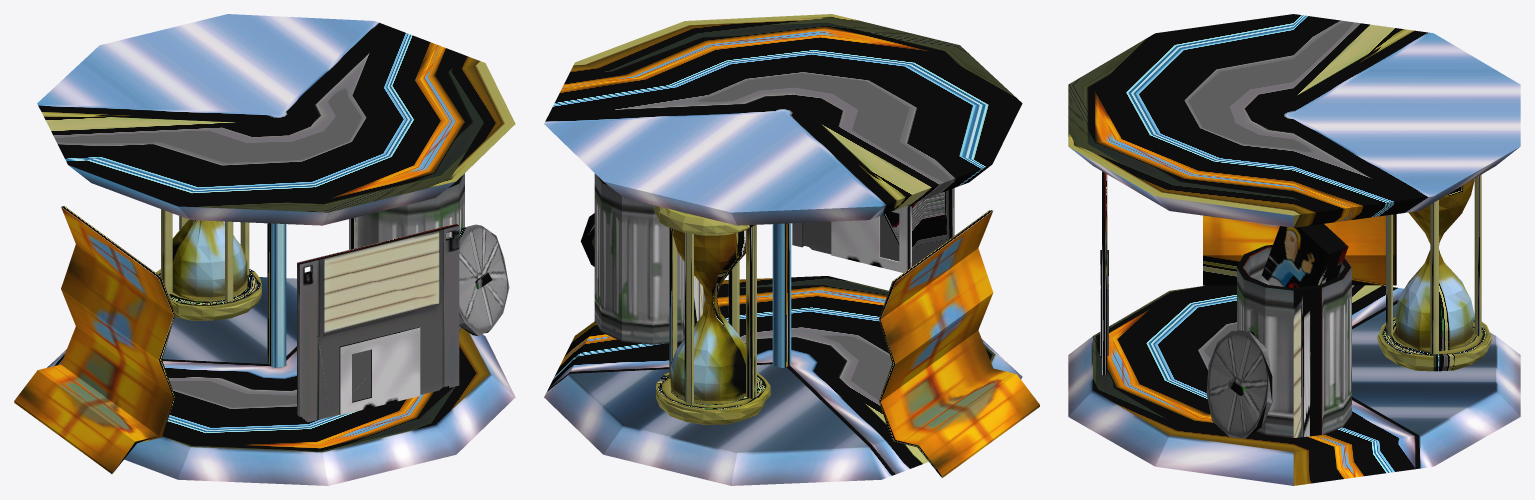
The model's file is SaveLoad.glb.
3 views of the same model, side by side, from view 1: azimuth 30°, elevation 25°; view 2: azimuth 150°, elevation 25°; view 3: azimuth 270°, elevation 25° (orthographic).
Parts seen in each view (by area): view 1: SaveLoad; view 2: SaveLoad; view 3: SaveLoad.
Part boxes in pixels (x1=…): SaveLoad: x1=14, y1=14, x2=515, y2=485; SaveLoad: x1=544, y1=14, x2=1039, y2=485; SaveLoad: x1=1068, y1=14, x2=1520, y2=485.
Size of the model in its own units: 413 by 256 by 386.
Materials: 1 (1 with a texture image).
